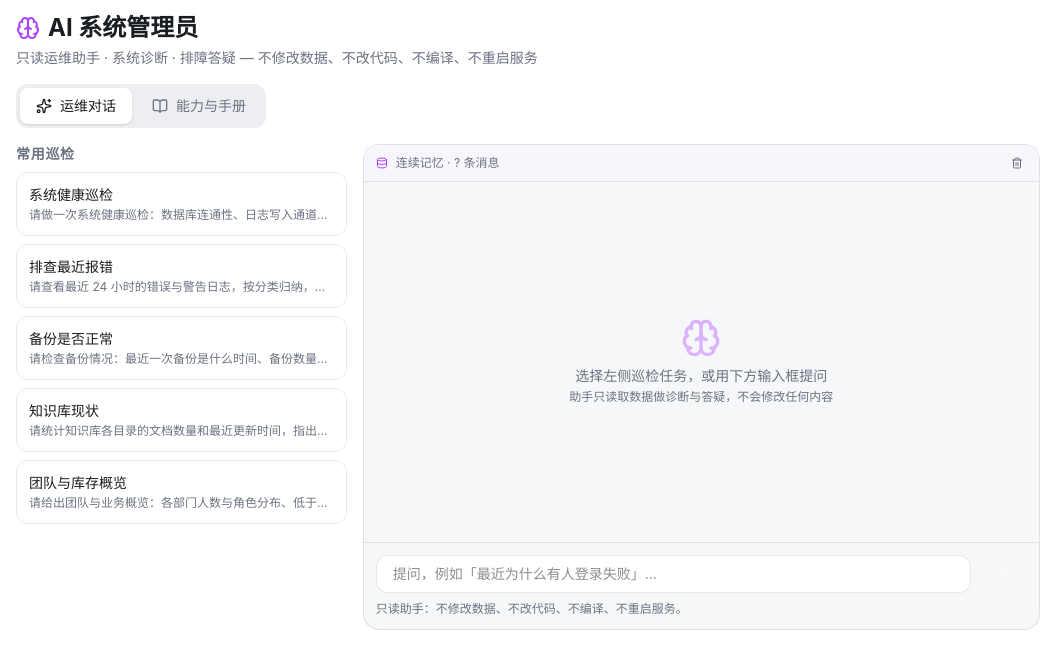
Test case: AI 管理员页面流式渲染 › 服务端 error 事件显示可读错误（不卡在 loading）
Click the text "排查最近报错".
click(71, 266)  # box [29,258,113,275]
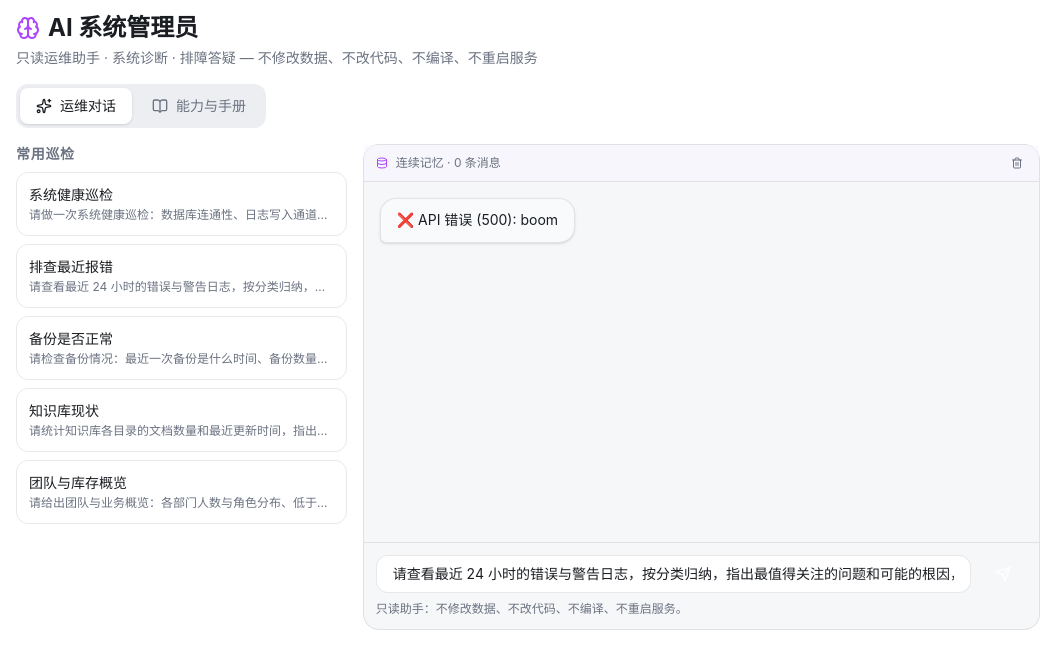
Now the text "❌ API 错误 (500): boom" is shown, box [397,209,558,232]
